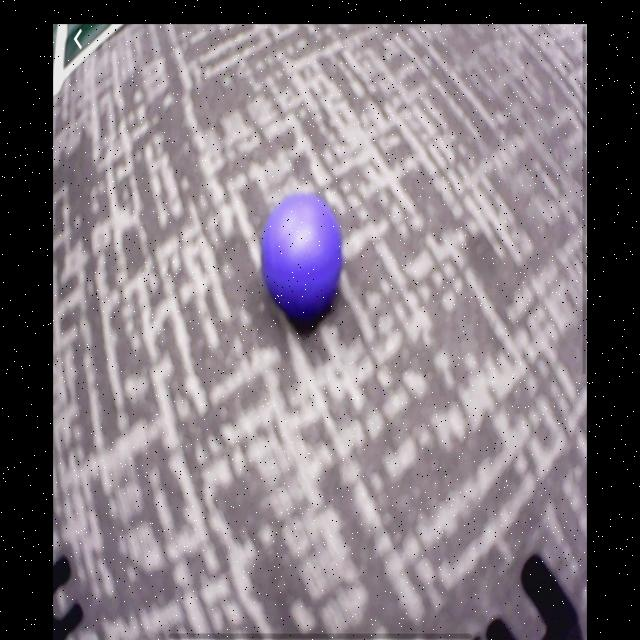ball: (262, 194, 347, 317)
